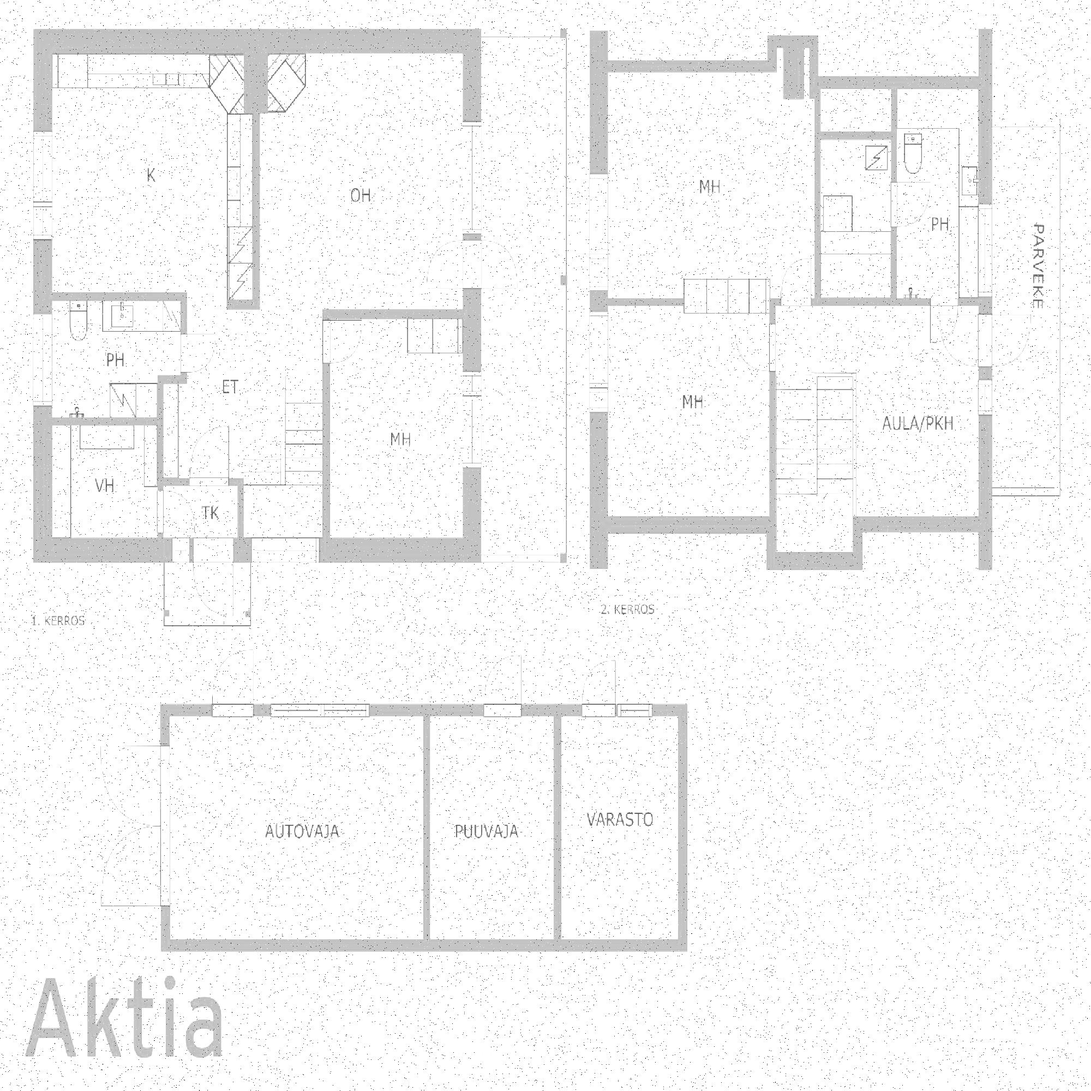wall: (32, 29, 481, 55), (32, 537, 481, 562), (32, 29, 52, 562), (589, 30, 608, 569), (462, 29, 481, 562), (161, 938, 687, 952), (977, 29, 990, 570), (161, 704, 687, 717), (589, 516, 776, 533), (677, 703, 687, 951), (160, 703, 170, 951), (589, 60, 777, 73), (809, 76, 991, 89), (852, 516, 991, 532), (322, 309, 330, 562), (244, 29, 267, 115), (769, 298, 991, 306), (424, 703, 431, 951), (553, 703, 560, 951), (766, 552, 862, 570), (322, 309, 481, 319), (814, 89, 821, 307), (769, 298, 776, 516), (782, 35, 804, 99), (890, 76, 896, 307), (253, 115, 260, 311), (157, 375, 164, 562), (32, 292, 187, 300), (32, 416, 164, 425), (157, 478, 243, 487), (589, 298, 684, 306), (814, 131, 896, 140), (767, 35, 818, 48), (181, 292, 187, 384), (766, 516, 776, 570), (852, 516, 862, 570), (237, 478, 243, 562), (809, 35, 818, 89), (226, 299, 260, 311), (767, 35, 777, 73), (157, 375, 187, 383), (809, 89, 821, 99)
